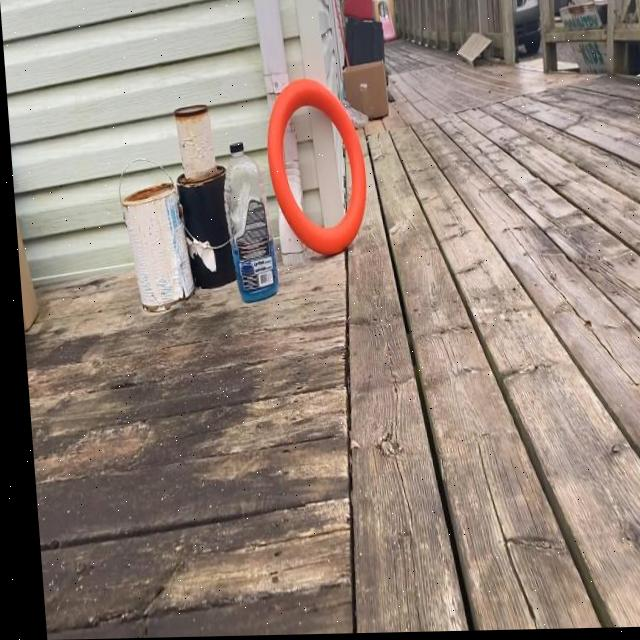note: (260, 74, 372, 258)
